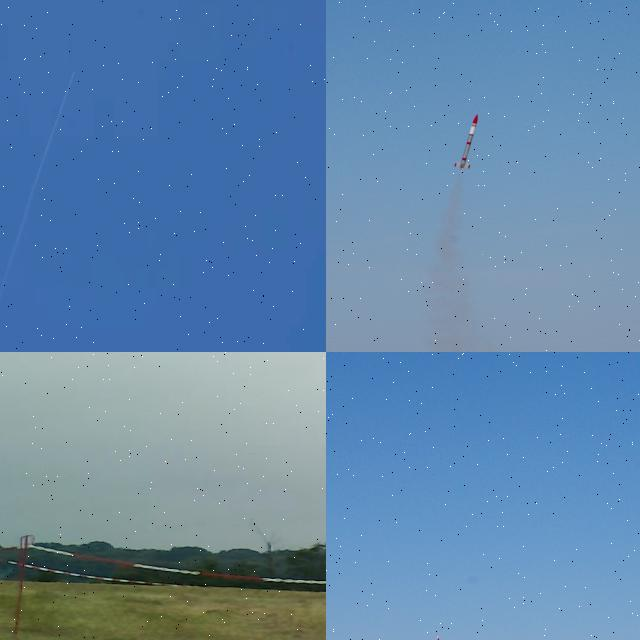Rocket: (454, 114, 478, 170), (74, 68, 76, 74)
